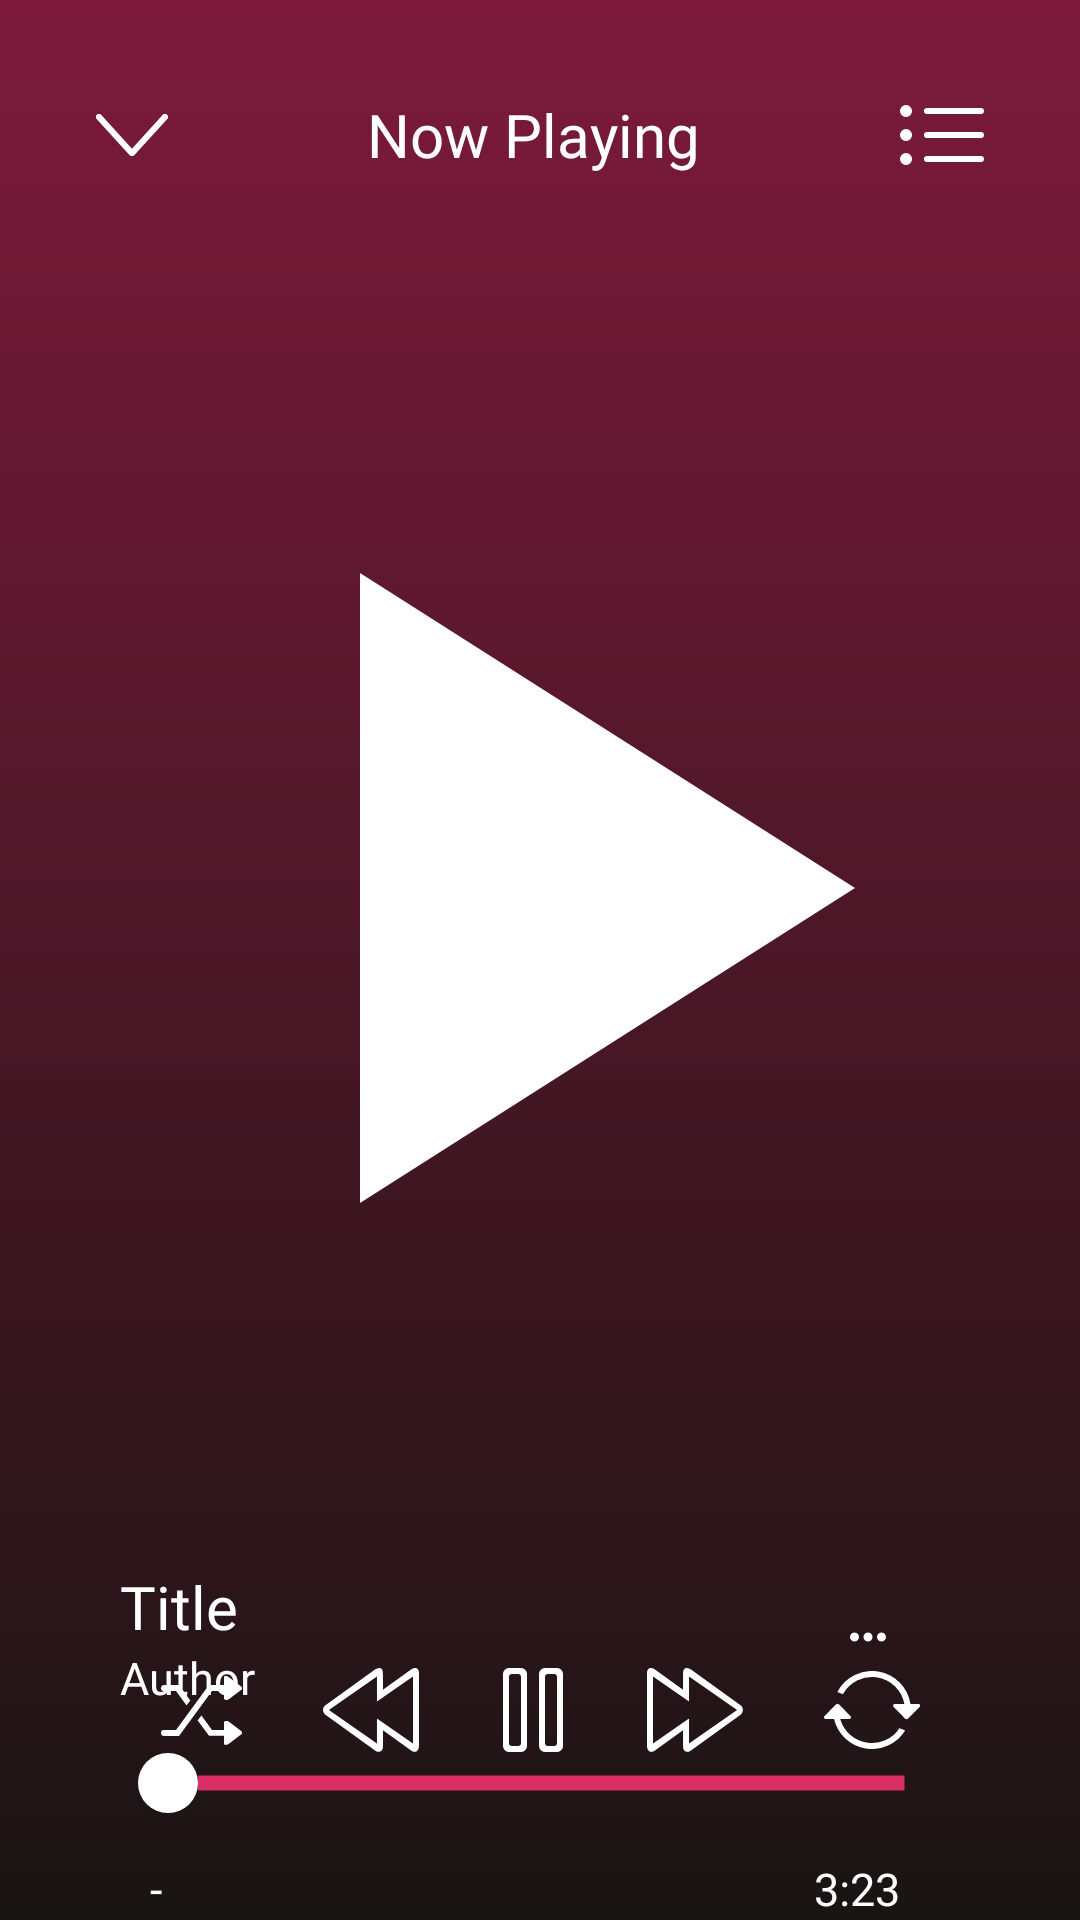

Icons on this 1080w x 1920h Android screen, each with its box as [x1, y1, x2, y2]:
arrow down: [96, 114, 168, 156]
backward: [282, 1668, 459, 1791]
forward: [606, 1668, 783, 1791]
queue: [900, 105, 984, 165]
